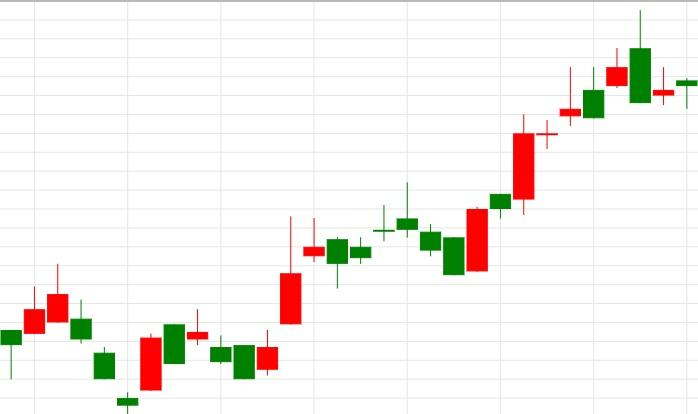three_black_crows_fall: (0, 263, 139, 414)
